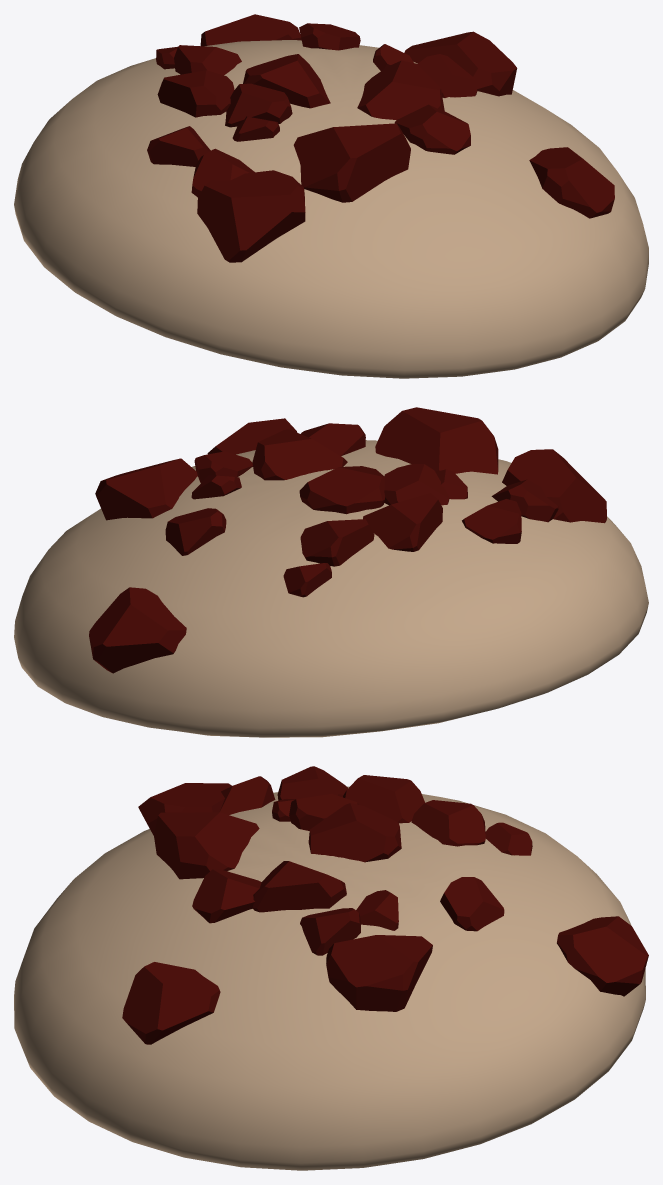
Rendered from SM_cookie.glb.
The picture shows the model from 3 angles, top to bottom: view 1: azimuth 30°, elevation 25°; view 2: azimuth 150°, elevation 25°; view 3: azimuth 270°, elevation 25°; orthographic projection.
Visible parts, largest first — view 1: SM_cookie; view 2: SM_cookie; view 3: SM_cookie.
Part boxes in pixels (box(x1,y1,x2,y2)): SM_cookie: box(14, 14, 648, 378); SM_cookie: box(14, 407, 648, 737); SM_cookie: box(14, 766, 648, 1170).
Bounding box in the file's own units: 0.1741 × 0.0657 × 0.1759.
1 material, 1 textured.
